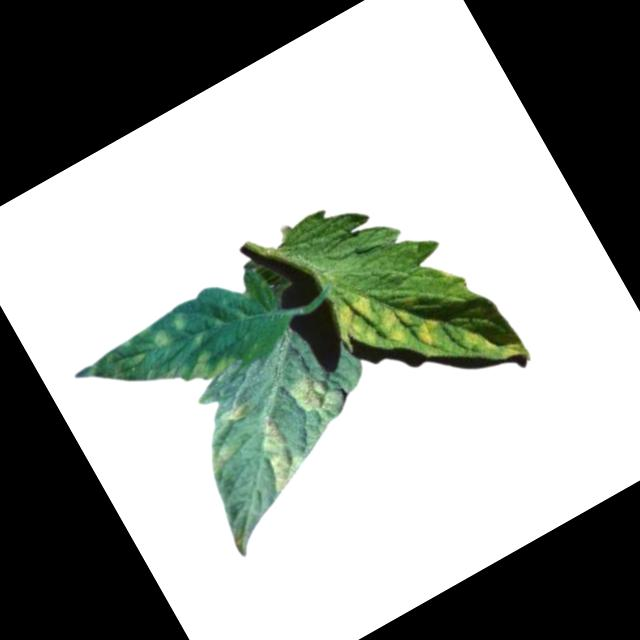Leaf_Mold: (322, 264, 446, 385), (239, 406, 316, 496), (283, 363, 348, 425), (181, 341, 235, 388), (462, 321, 499, 361), (216, 396, 255, 429), (166, 308, 196, 338), (147, 324, 175, 353)
